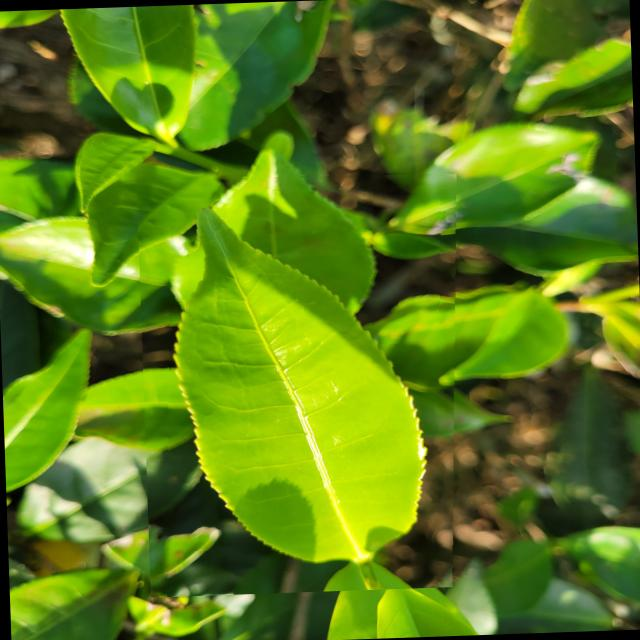Category B(2-4 days): (137, 168, 470, 597)
